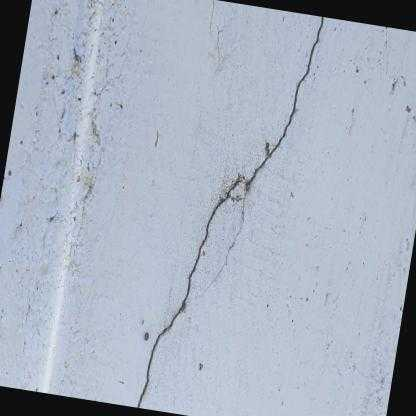crack: (204, 15, 322, 289), (136, 180, 237, 407)
